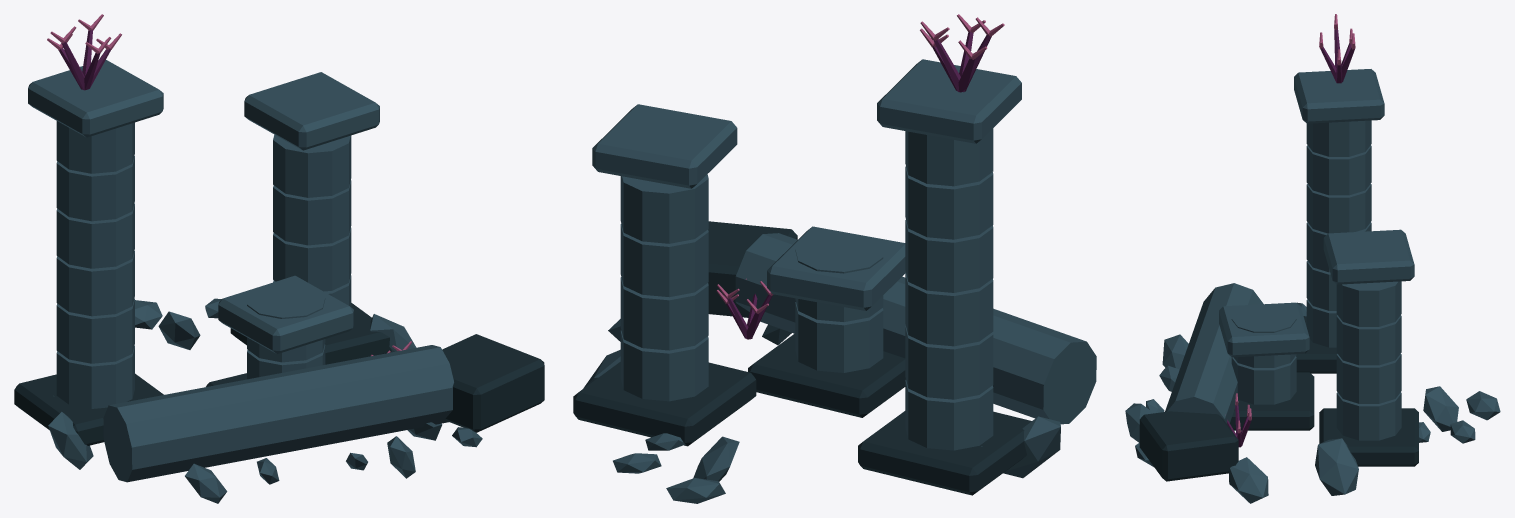
Rendered from 08_collapsed_pillars.glb.
3 views of the same model, side by side, from view 1: azimuth 30°, elevation 25°; view 2: azimuth 150°, elevation 25°; view 3: azimuth 270°, elevation 25° (orthographic). The views are drawn at different scales.
Visible parts, largest first — view 1: FallenColumn, FallenCapital, BrokenCapital.001, BrokenCapital, BrokenCapital.002, FlutedColumnDrum.009, FlutedColumnDrum.004, FlutedColumnDrum.003, FlutedColumnDrum.001, FlutedColumnDrum.008, FlutedColumnDrum.002, FlutedColumnDrum (+12 smaller); view 2: FallenColumn, BrokenCapital.001, BrokenCapital, PillarFoot.001, PillarFoot, PillarFoot.002, BrokenCapital.002, FlutedColumnDrum.009, FlutedColumnDrum.002, FlutedColumnDrum.004, FlutedColumnDrum.007, FlutedColumnDrum.001 (+12 smaller); view 3: FallenColumn, FallenCapital, BrokenCapital.001, BrokenCapital, PillarFoot.001, BrokenCapital.002, FlutedColumnDrum.009, PillarFoot.002, FlutedColumnDrum.008, FlutedColumnDrum.004, FlutedColumnDrum.007, FlutedColumnDrum.003 (+15 smaller).
Part boxes in pixels (x1,y1,x2,y2): FallenColumn: [103, 345, 453, 482]; FallenCapital: [442, 334, 544, 432]; BrokenCapital.001: [244, 72, 379, 150]; BrokenCapital: [28, 60, 163, 137]; BrokenCapital.002: [218, 275, 353, 353]; FlutedColumnDrum.009: [273, 134, 351, 197]; FlutedColumnDrum.004: [56, 156, 134, 221]; FlutedColumnDrum.003: [56, 203, 134, 268]; FlutedColumnDrum.001: [56, 298, 134, 363]; FlutedColumnDrum.008: [273, 180, 351, 245]; FlutedColumnDrum.002: [56, 251, 134, 316]; FlutedColumnDrum: [56, 346, 134, 408]; FallenColumn: [735, 233, 1096, 424]; BrokenCapital.001: [592, 104, 737, 188]; BrokenCapital: [877, 59, 1021, 143]; PillarFoot.001: [573, 362, 756, 446]; PillarFoot: [858, 411, 1031, 495]; PillarFoot.002: [748, 333, 905, 417]; BrokenCapital.002: [767, 226, 905, 310]; FlutedColumnDrum.009: [620, 174, 708, 243]; FlutedColumnDrum.002: [905, 273, 993, 346]; FlutedColumnDrum.004: [905, 166, 993, 239]; FlutedColumnDrum.007: [620, 277, 708, 350]; FlutedColumnDrum.001: [905, 326, 993, 399]; FallenColumn: [1165, 283, 1263, 423]; FallenCapital: [1139, 411, 1238, 481]; BrokenCapital.001: [1323, 229, 1414, 284]; BrokenCapital: [1294, 69, 1384, 123]; PillarFoot.001: [1319, 408, 1418, 466]; BrokenCapital.002: [1219, 302, 1309, 357]; FlutedColumnDrum.009: [1336, 281, 1401, 326]; PillarFoot.002: [1230, 372, 1314, 430]; FlutedColumnDrum.008: [1336, 315, 1401, 365]; FlutedColumnDrum.004: [1306, 145, 1371, 195]; FlutedColumnDrum.007: [1336, 354, 1401, 403]; FlutedColumnDrum.003: [1306, 184, 1371, 233].
Bounding box in the file's own units: 7.95 × 7.57 × 7.51.
Materials: 4 (4 with a texture image).
